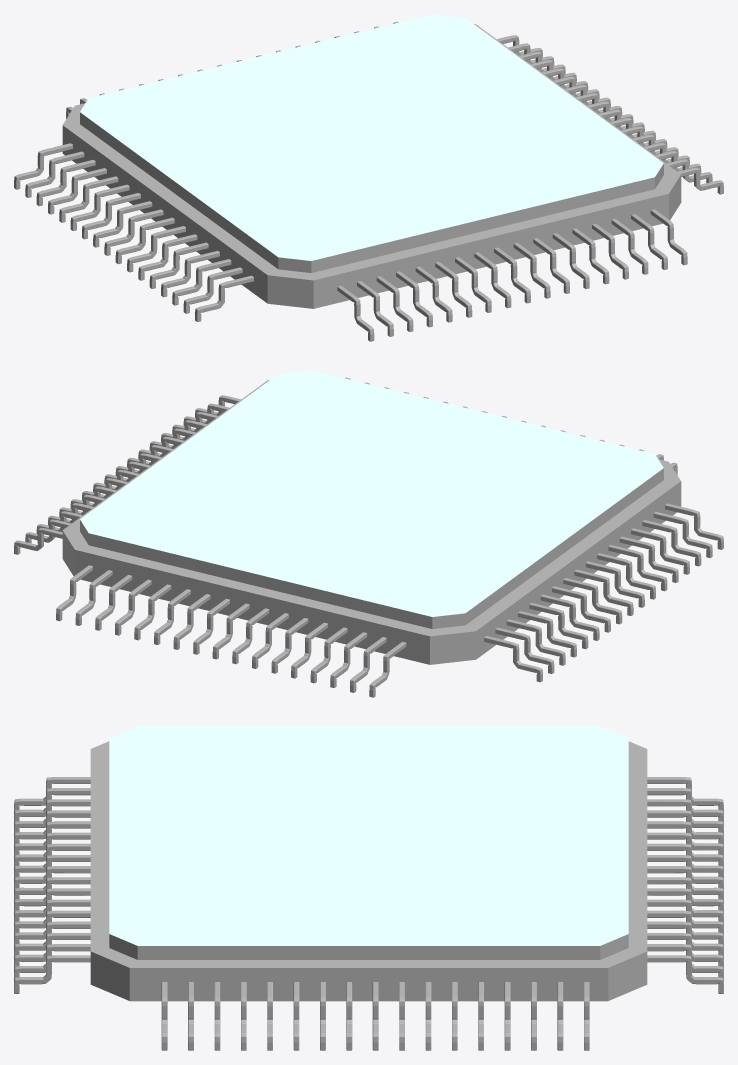
File: MONEY 1.fbx
The picture shows the model from 3 angles, top to bottom: view 1: azimuth 30°, elevation 25°; view 2: azimuth 150°, elevation 25°; view 3: azimuth 270°, elevation 25°; orthographic projection. The views are drawn at different scales.
Parts seen in each view (by area): view 1: Cube.012; view 2: Cube.012; view 3: Cube.012.
Part boxes in pixels (<box>): Cube.012: <box>14,14,723,341</box>; Cube.012: <box>14,370,723,697</box>; Cube.012: <box>14,726,723,1050</box>.
Size of the model in its own units: 0.3455 by 0.3455 by 0.0348.
